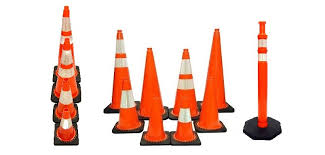cones: (243, 19, 284, 139), (198, 28, 237, 115), (104, 30, 139, 115), (46, 40, 83, 103), (50, 8, 81, 80), (139, 47, 167, 118), (40, 77, 82, 124), (172, 48, 199, 120), (196, 83, 224, 136), (138, 103, 170, 149), (116, 81, 141, 134), (52, 110, 83, 148), (174, 106, 201, 147)
